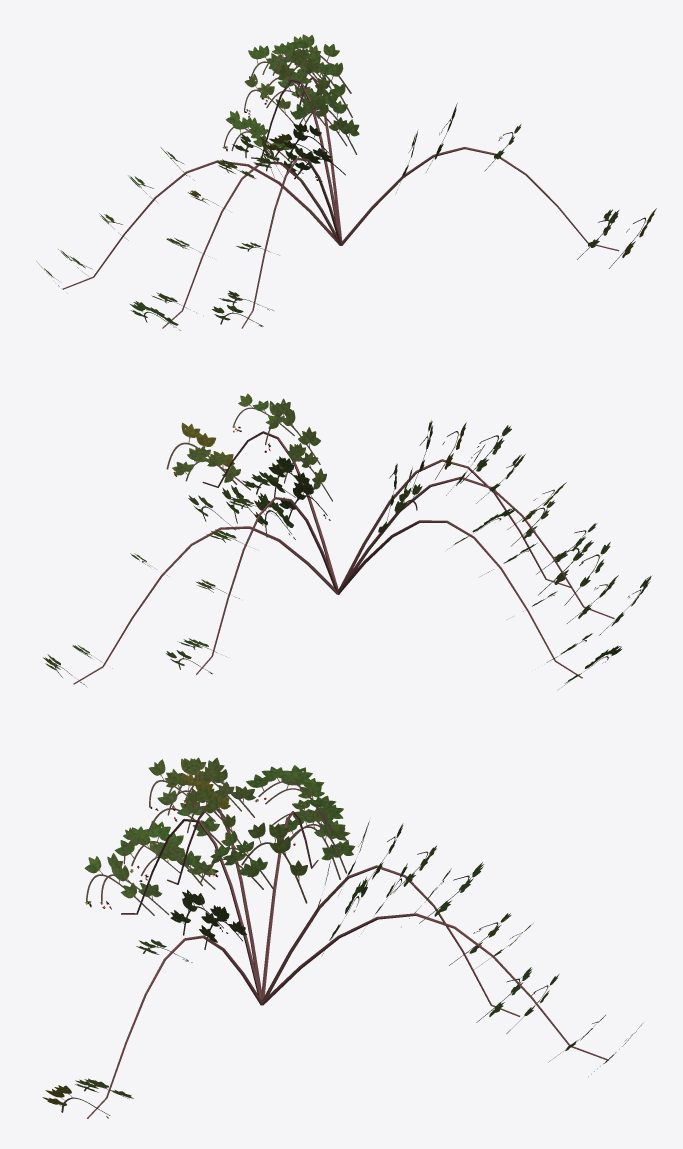
The model's file is ostruzina_3.glb.
The picture shows the model from 3 angles, top to bottom: view 1: azimuth 30°, elevation 25°; view 2: azimuth 150°, elevation 25°; view 3: azimuth 270°, elevation 25°; orthographic projection. The views are drawn at different scales.
Parts seen in each view (by area): view 1: ostruzina_3; view 2: ostruzina_3; view 3: ostruzina_3.
Part boxes in pixels (left/top/right/bottom): ostruzina_3: left=36, top=34, right=656, bottom=330; ostruzina_3: left=43, top=393, right=652, bottom=690; ostruzina_3: left=42, top=757, right=642, bottom=1118.
Bounding box in the file's own units: 4.48 × 1.44 × 3.99.
2 materials, 1 textured.
